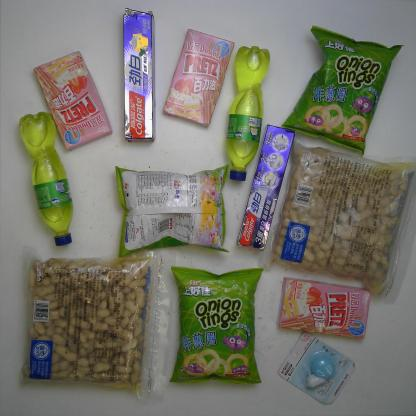Dessert: (31, 49, 114, 152), (160, 26, 236, 128), (274, 274, 373, 342)
Dried Food: (265, 139, 416, 308), (16, 249, 170, 403)
Drink: (16, 109, 75, 248), (222, 43, 272, 183)
Personal Hygiene: (235, 122, 297, 252), (119, 2, 158, 144)
Puffed Food: (279, 22, 407, 157), (168, 262, 267, 391), (111, 162, 232, 260)
Stationery: (276, 331, 358, 406)
